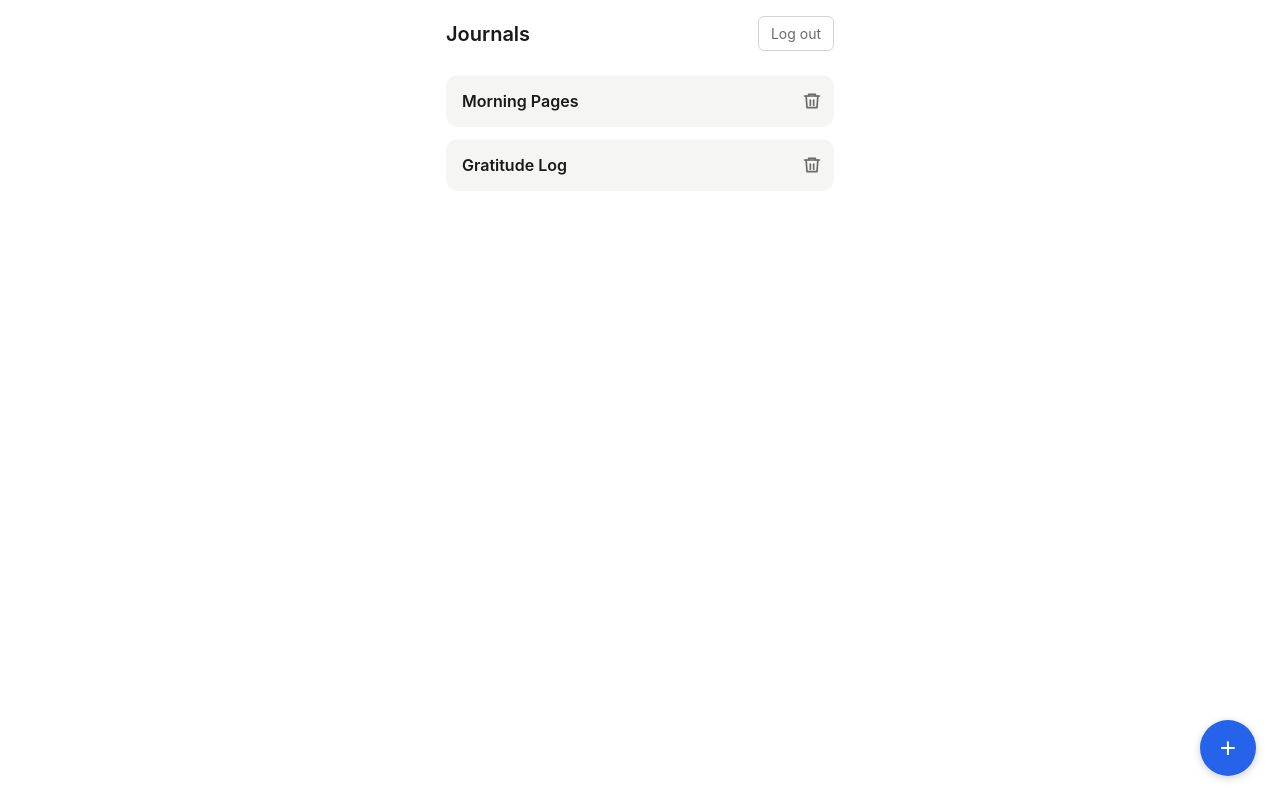
Test: HomePage › deleting › does nothing when canceled
What coordinates should you click on to do the following:
click the button named "Delete Morning Pages"
I would click on:
 (812, 101)
Its box is [790, 79, 834, 123].
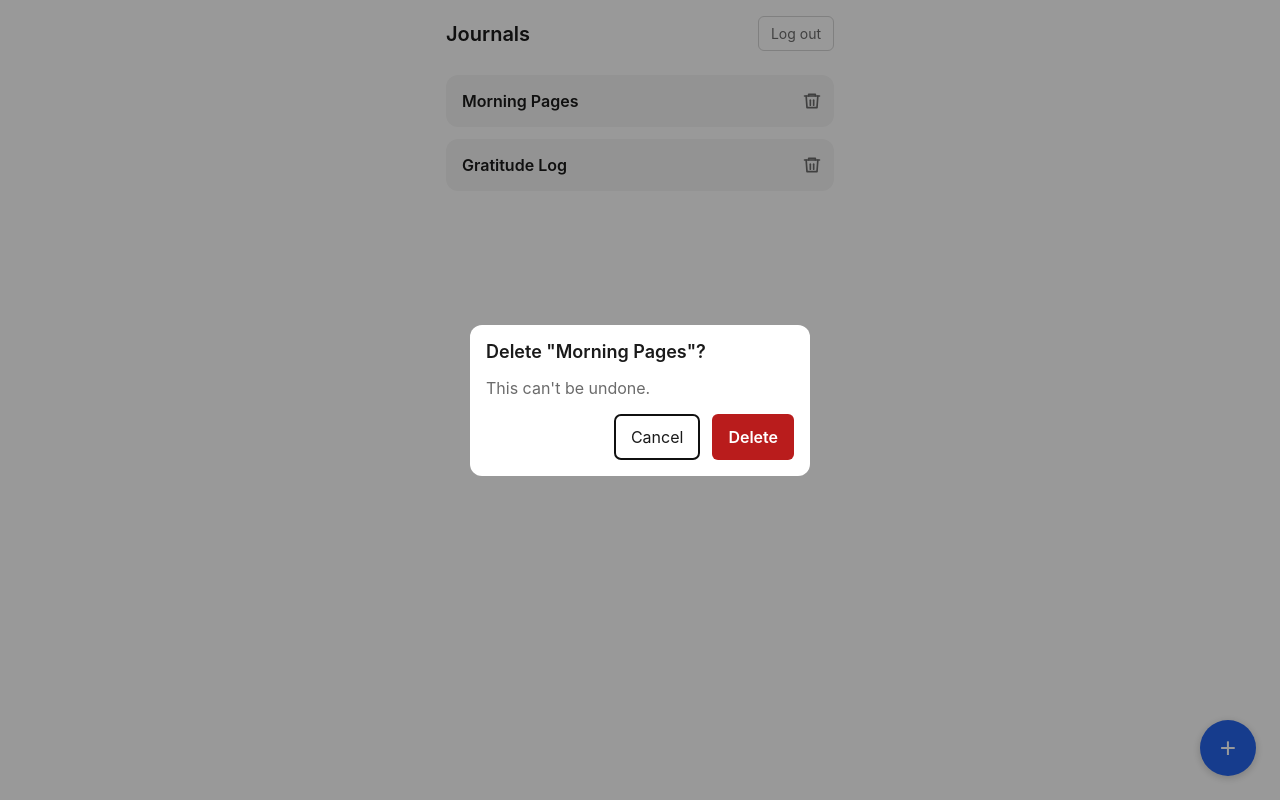
What coordinates should you click on to do the following:
click the button "Cancel"
I would click on:
 (657, 436)
Its box is [614, 414, 700, 460].
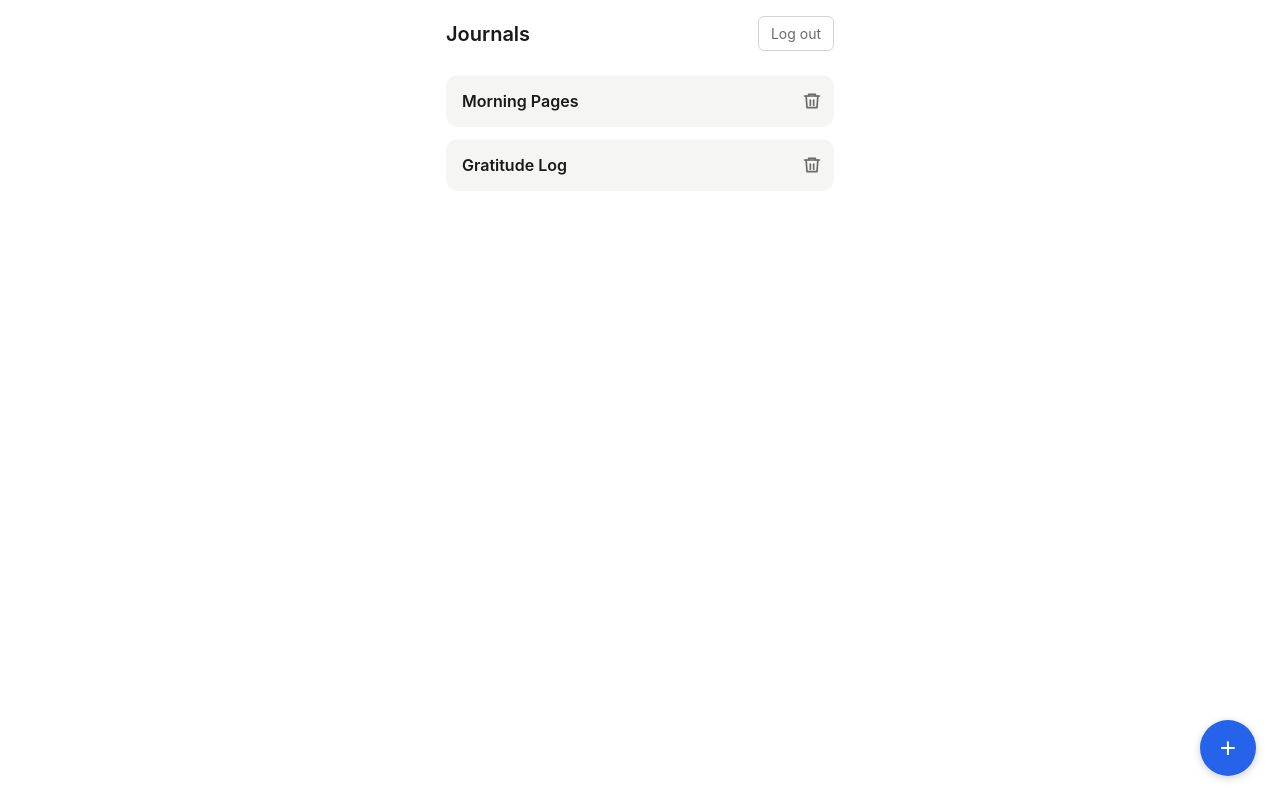
Expected: the text "Morning Pages" is shown, [462, 91, 578, 111]
Result: the dialog is gone
